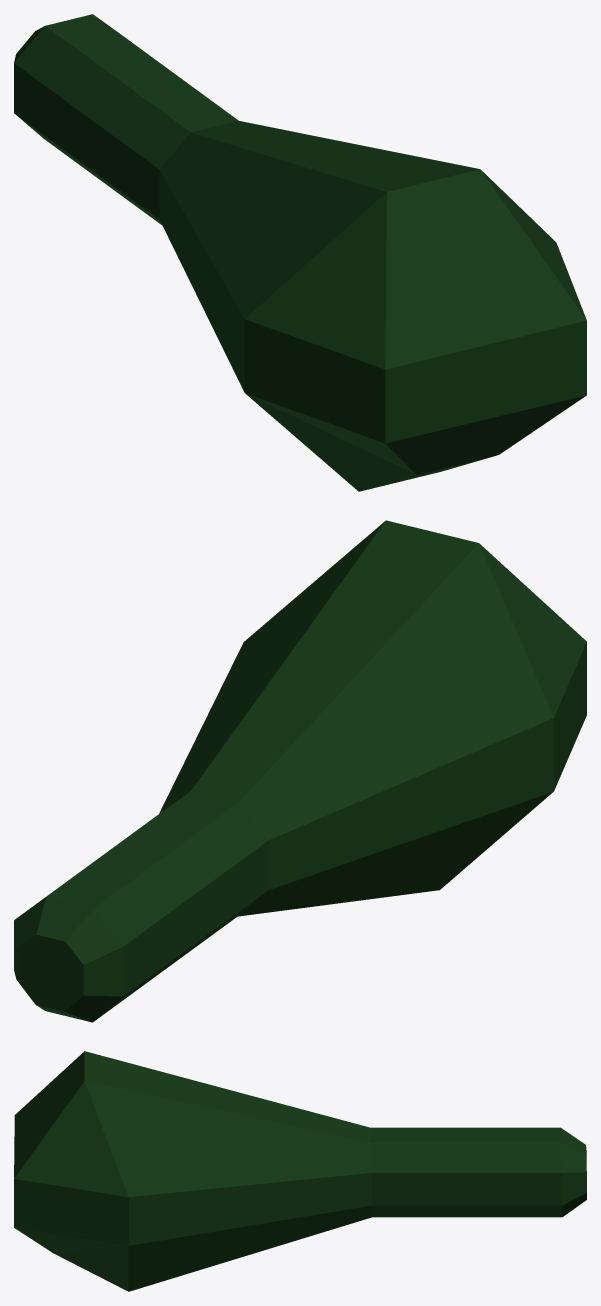
The model's file is CeleryCollider.obj.
The picture shows the model from 3 angles, top to bottom: view 1: azimuth 30°, elevation 25°; view 2: azimuth 150°, elevation 25°; view 3: azimuth 270°, elevation 25°; orthographic projection. The views are drawn at different scales.
Parts seen in each view (by area): view 1: leek.001, leek.003; view 2: leek.001, leek.003; view 3: leek.001, leek.003.
Boxes of the visible parts, x1,y1,x2,y2 form: leek.001: [159, 120, 586, 491]; leek.003: [14, 14, 238, 224]; leek.001: [159, 520, 586, 916]; leek.003: [14, 791, 268, 1022]; leek.001: [14, 1051, 372, 1291]; leek.003: [370, 1127, 586, 1217].
Bounding box in the file's own units: 0.1432 × 0.1429 × 0.3489.
